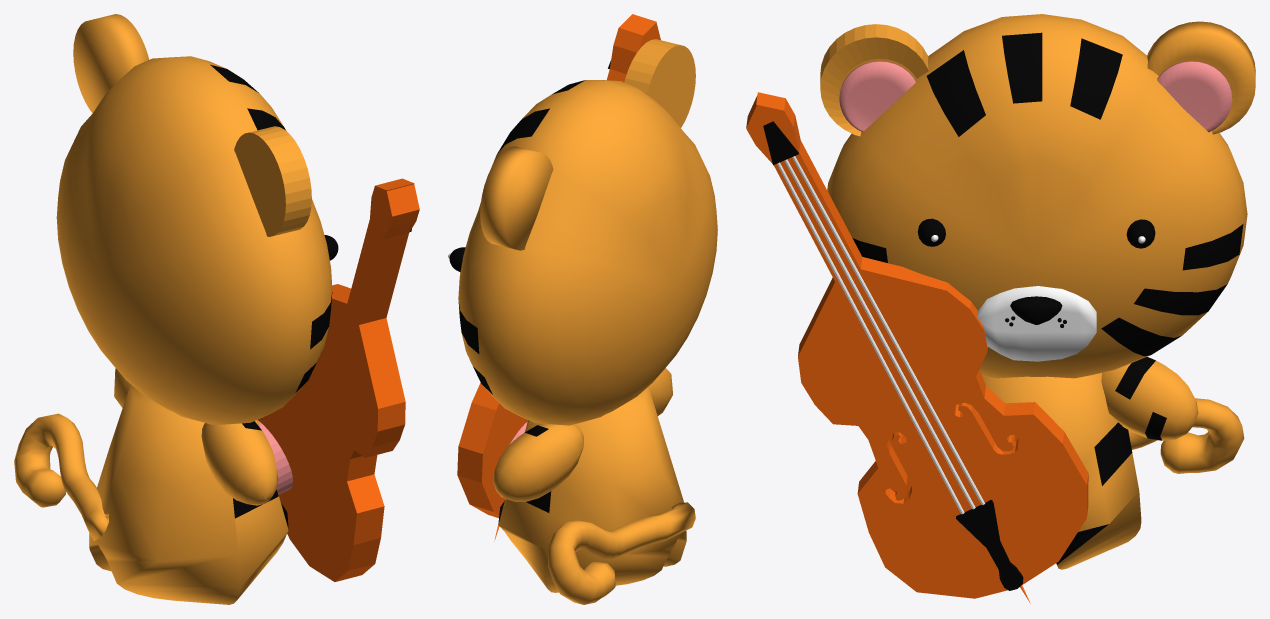
The model's file is animation_tiger.fbx.
3 renders of one model, left to right at view 1: azimuth 30°, elevation 25°; view 2: azimuth 150°, elevation 25°; view 3: azimuth 270°, elevation 25°, orthographic. The views are drawn at different scales.
Parts seen in each view (by area): view 1: Circle.004, Cube.002, Cylinder.007, Cylinder.005; view 2: Circle.004, Cube.002, Cylinder.007, Cylinder.006, Cylinder.005; view 3: Circle.004, Cube.002, Cylinder.006, Cylinder.007.
Boxes of the visible parts, box(x1,y1,x2,y2) form: Circle.004: box(56, 14, 338, 604); Cube.002: box(258, 178, 419, 581); Cylinder.007: box(14, 413, 108, 540); Cylinder.005: box(201, 421, 277, 505); Circle.004: box(448, 39, 717, 592); Cube.002: box(457, 14, 660, 540); Cylinder.007: box(547, 502, 695, 604); Cylinder.006: box(493, 423, 583, 501); Cylinder.005: box(648, 368, 672, 415); Circle.004: box(820, 14, 1255, 569); Cube.002: box(746, 92, 1088, 603); Cylinder.006: box(1101, 357, 1198, 440); Cylinder.007: box(1128, 398, 1244, 473).
Bounding box in the file's own units: 179 × 387 × 334.
